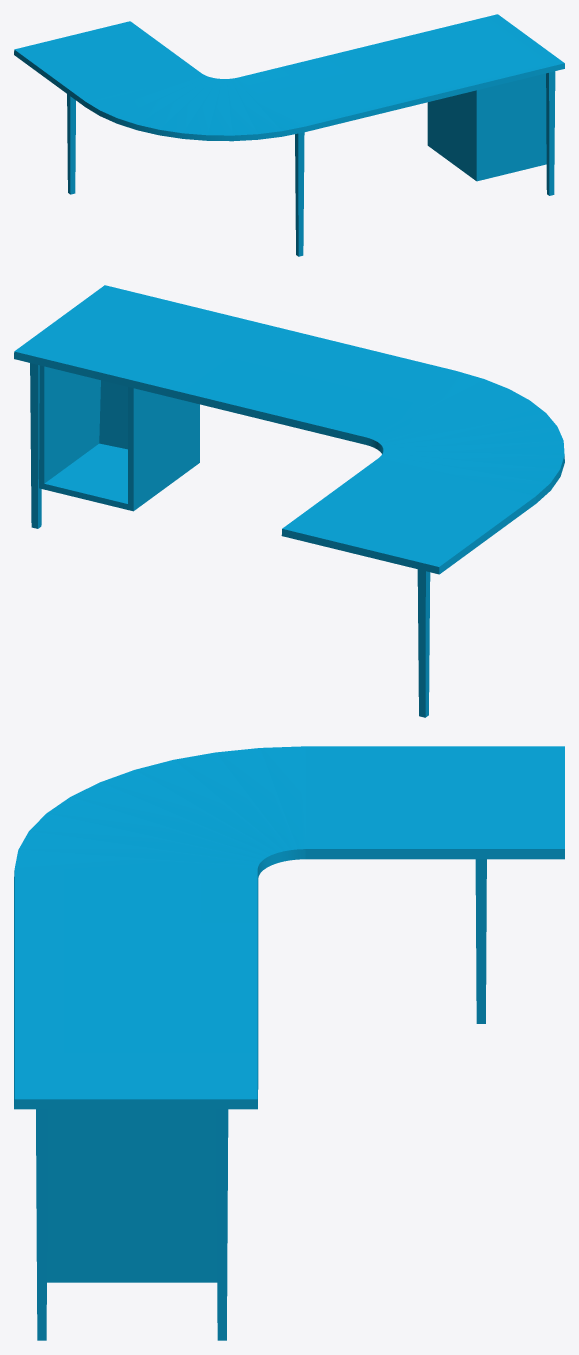
The model's file is Desk_02B_Collider_01.fbx.
3 views of the same model, one above another, from view 1: azimuth 30°, elevation 25°; view 2: azimuth 150°, elevation 25°; view 3: azimuth 270°, elevation 25° (orthographic). The views are drawn at different scales.
Parts seen in each view (by area): view 1: Desk_02B_Collider_01; view 2: Desk_02B_Collider_01; view 3: Desk_02B_Collider_01.
Part boxes in pixels (x1,y1,x2,y2): Desk_02B_Collider_01: [14, 14, 564, 256]; Desk_02B_Collider_01: [14, 285, 564, 717]; Desk_02B_Collider_01: [14, 746, 564, 1340].
Size of the model in its own units: 230 by 74.32 by 151.
